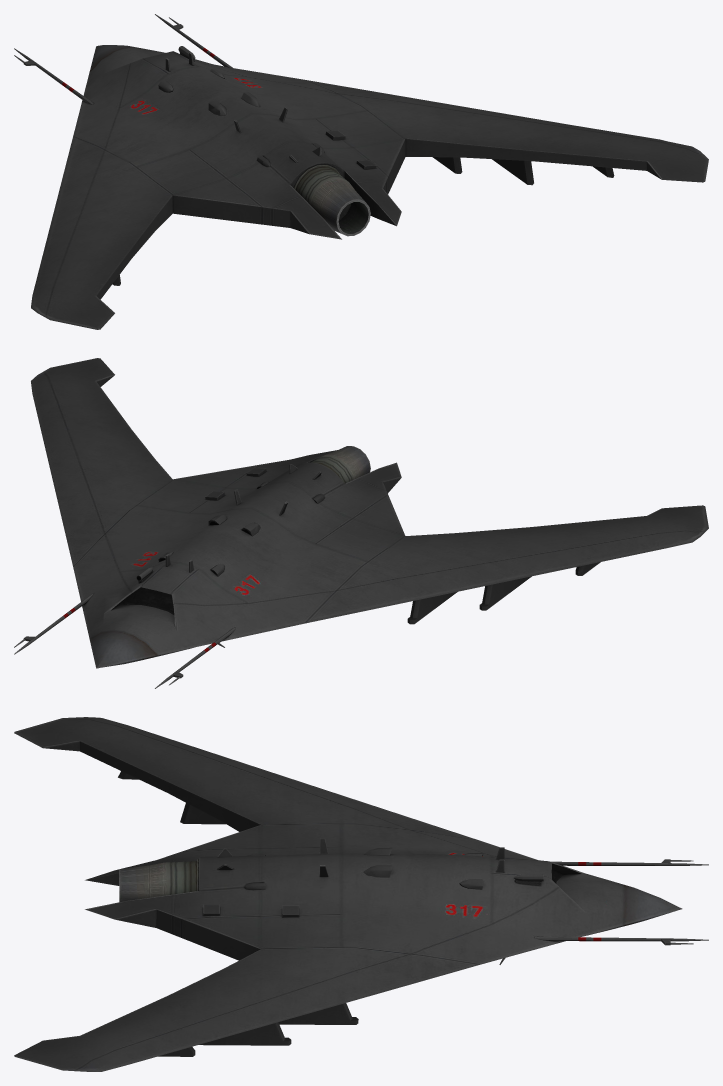
Rendered from jet_model.obj.
The picture shows the model from 3 angles, top to bottom: view 1: azimuth 30°, elevation 25°; view 2: azimuth 150°, elevation 25°; view 3: azimuth 270°, elevation 25°; orthographic projection. The views are drawn at different scales.
Parts seen in each view (by area): view 1: c-70_0; view 2: c-70_0; view 3: c-70_0.
Part boxes in pixels (<box>): c-70_0: <box>14,14,708,329</box>; c-70_0: <box>14,358,708,688</box>; c-70_0: <box>14,717,708,1071</box>.
Size of the model in its own units: 3.68 by 0.4326 by 3.04.
Materials: 1 (1 with a texture image).
